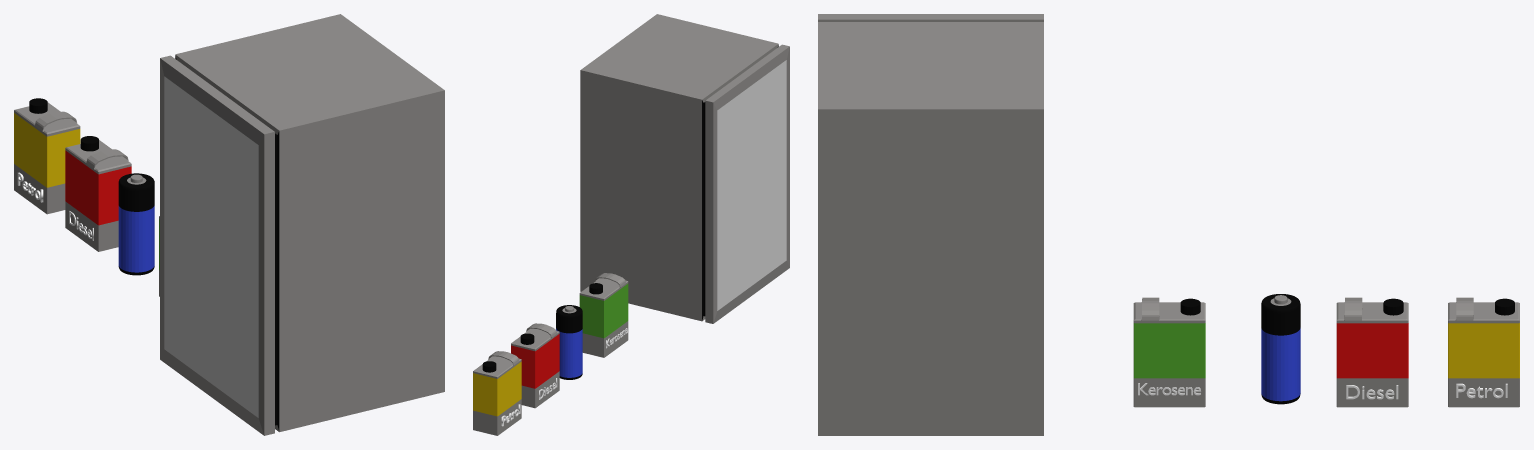
Rendered from Drinks&Fridge.fbx.
3 views of the same model, side by side, from view 1: azimuth 30°, elevation 25°; view 2: azimuth 150°, elevation 25°; view 3: azimuth 270°, elevation 25° (orthographic). The views are drawn at different scales.
Parts seen in each view (by area): view 1: Fridge, Diesel, Petrol, Battery; view 2: Fridge, Petrol, KeroseneCan, Diesel, Battery; view 3: Fridge, KeroseneCan, Diesel, Petrol, Battery.
Part boxes in pixels (bbox=[...]): Fridge: bbox=[160, 14, 444, 435]; Diesel: bbox=[65, 136, 131, 251]; Petrol: bbox=[14, 98, 80, 214]; Battery: bbox=[118, 173, 154, 275]; Fridge: bbox=[580, 14, 789, 323]; Petrol: bbox=[473, 351, 521, 435]; KeroseneCan: bbox=[579, 273, 628, 357]; Diesel: bbox=[511, 323, 559, 408]; Battery: bbox=[556, 305, 582, 379]; Fridge: bbox=[818, 14, 1043, 435]; KeroseneCan: bbox=[1133, 297, 1205, 407]; Diesel: bbox=[1336, 297, 1408, 407]; Petrol: bbox=[1448, 297, 1519, 407]; Battery: bbox=[1261, 294, 1300, 404].
Size of the model in its own units: 311 by 511 by 964.
